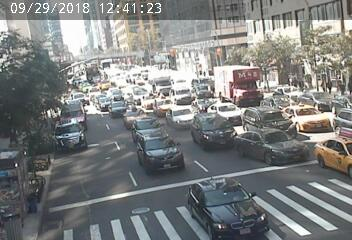car: (190, 184, 262, 233), (215, 67, 269, 102), (238, 132, 303, 160), (243, 104, 288, 133), (192, 114, 234, 144), (139, 135, 183, 162), (287, 102, 329, 126), (56, 122, 90, 151), (319, 140, 352, 163), (213, 100, 245, 121), (169, 106, 198, 126), (133, 117, 165, 134), (169, 85, 195, 103), (144, 79, 172, 94), (63, 102, 85, 121), (192, 81, 214, 98), (126, 109, 147, 123), (152, 98, 173, 111), (136, 91, 158, 102), (192, 95, 210, 108), (109, 83, 121, 100), (111, 100, 124, 114), (88, 84, 100, 96), (72, 91, 82, 100), (94, 98, 104, 106)
